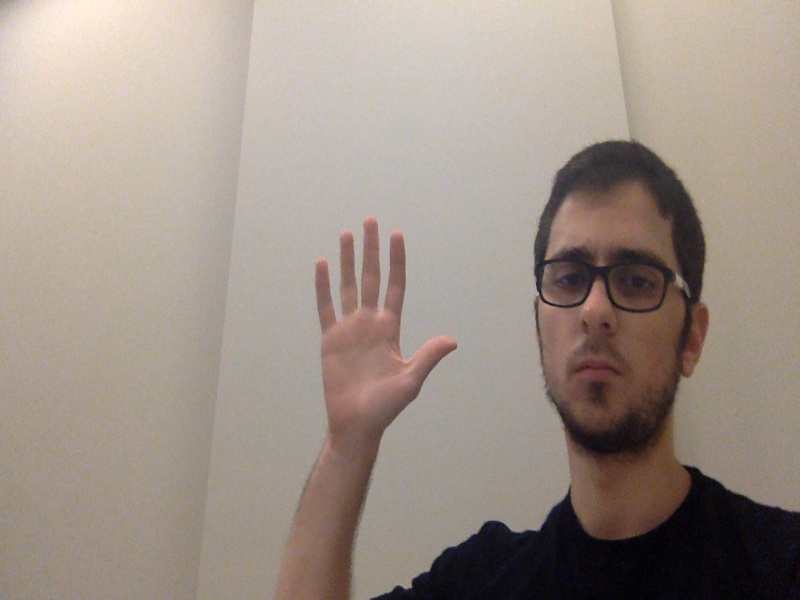5-hand: (310, 215, 463, 438)
